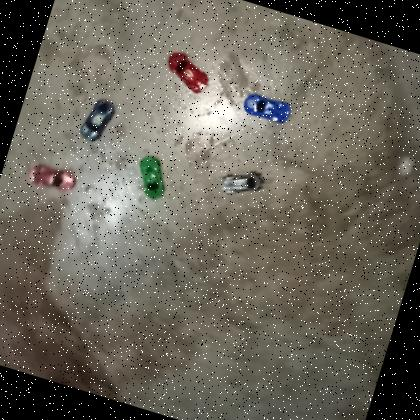Car: (160, 49, 216, 98), (216, 162, 268, 206), (77, 94, 119, 147), (130, 154, 174, 202), (240, 90, 294, 128)
